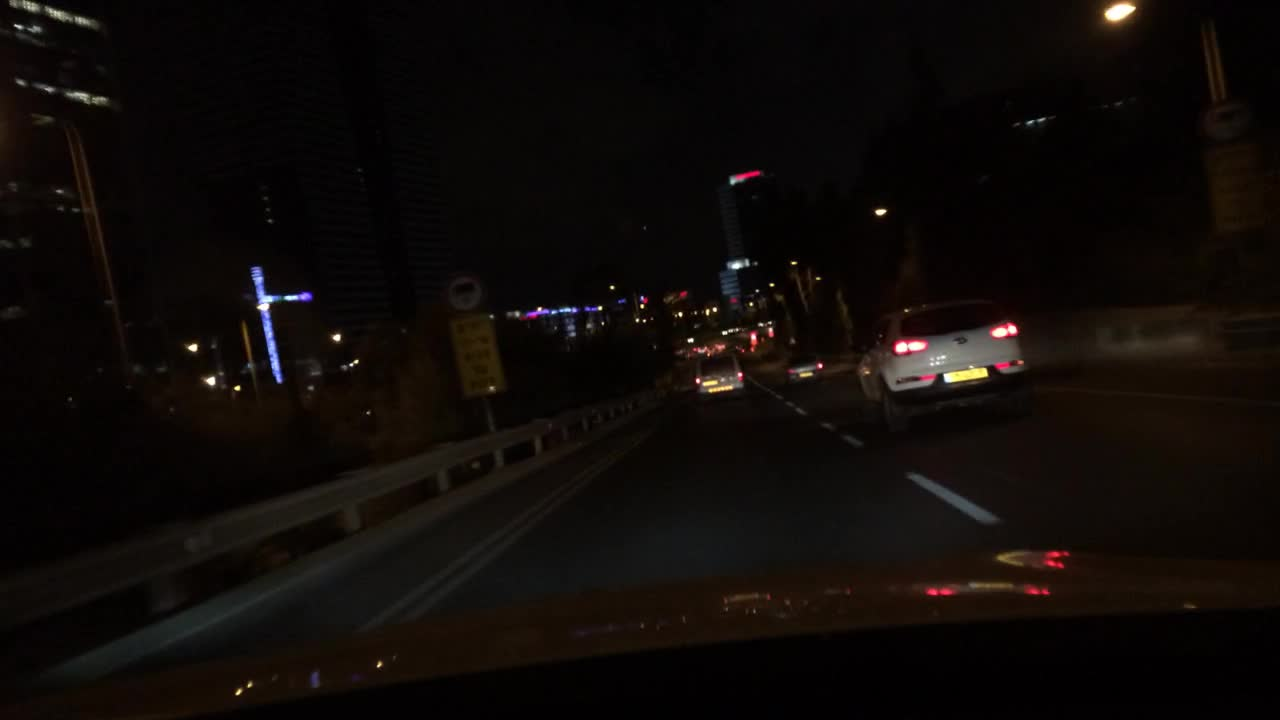car: (850, 298, 1039, 440), (690, 351, 748, 399), (777, 347, 825, 387), (726, 341, 747, 357), (669, 344, 687, 359), (712, 342, 727, 353), (703, 344, 717, 354), (695, 342, 705, 354)
traffic sign: (446, 313, 507, 398), (443, 273, 485, 312)
